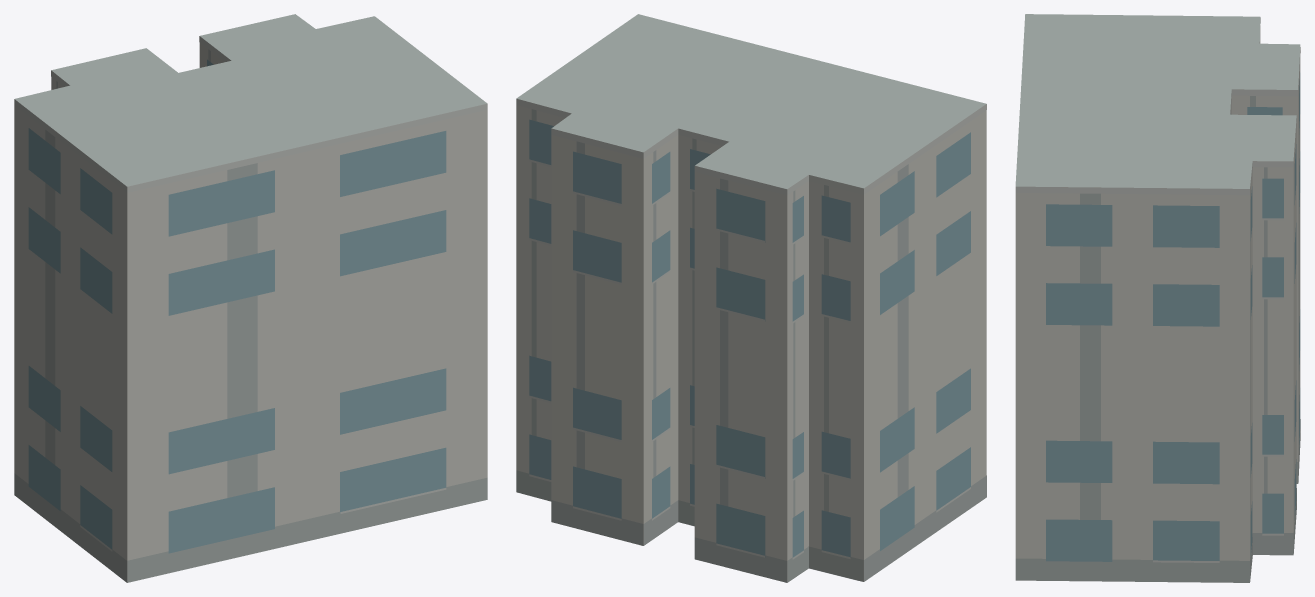
File: survey-upis-32638180.glb
3 views of the same model, side by side, from view 1: azimuth 30°, elevation 25°; view 2: azimuth 150°, elevation 25°; view 3: azimuth 270°, elevation 25° (orthographic).
Parts seen in each view (by area): view 1: survey-upis-32638180.tmp; view 2: survey-upis-32638180.tmp; view 3: survey-upis-32638180.tmp.
Part boxes in pixels (x1,y1,x2,y2): survey-upis-32638180.tmp: [14, 14, 487, 582]; survey-upis-32638180.tmp: [516, 14, 986, 582]; survey-upis-32638180.tmp: [1015, 14, 1300, 582].
Size of the model in its own units: 14.49 by 15.2 by 9.98.
